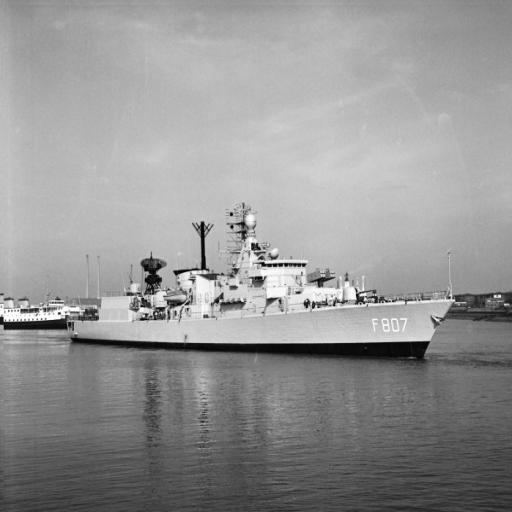Fragata: (65, 205, 463, 364)
